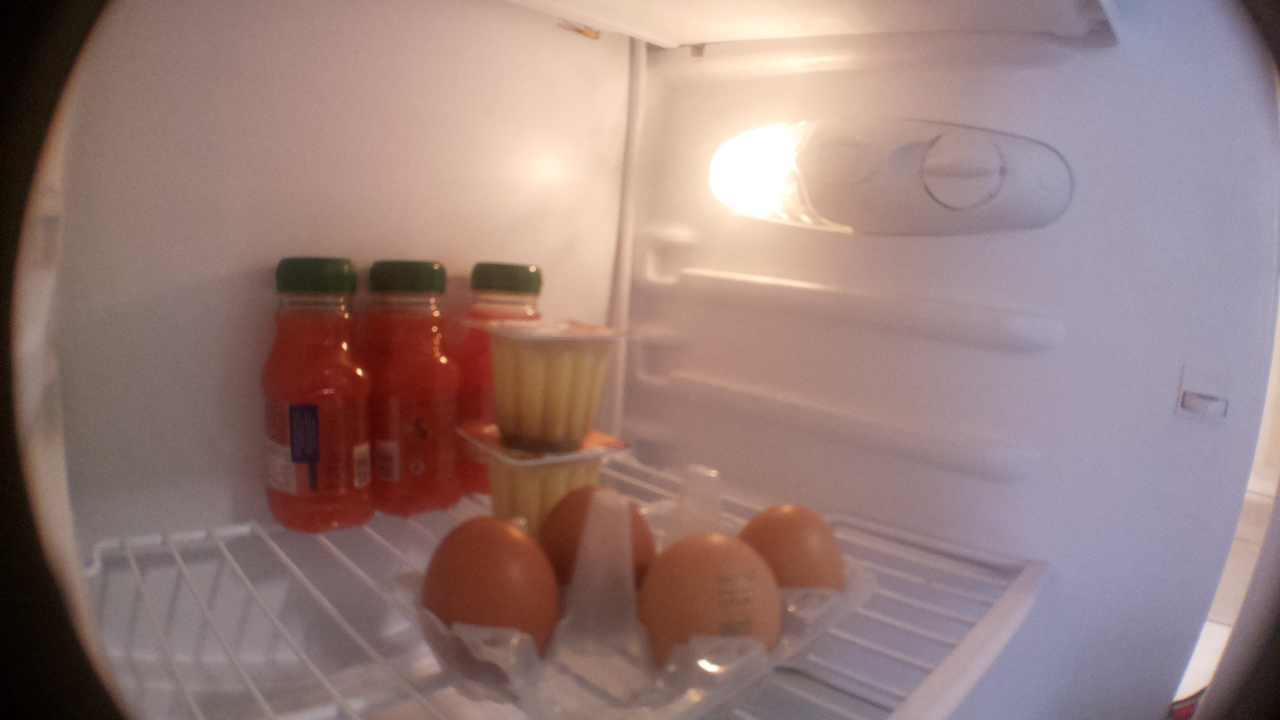caramel: (454, 308, 630, 455), (455, 416, 636, 531)
egg: (417, 515, 563, 690), (634, 523, 789, 673), (534, 490, 667, 600), (734, 494, 850, 614)
juice: (254, 253, 370, 538), (353, 259, 455, 520), (454, 256, 548, 426)
